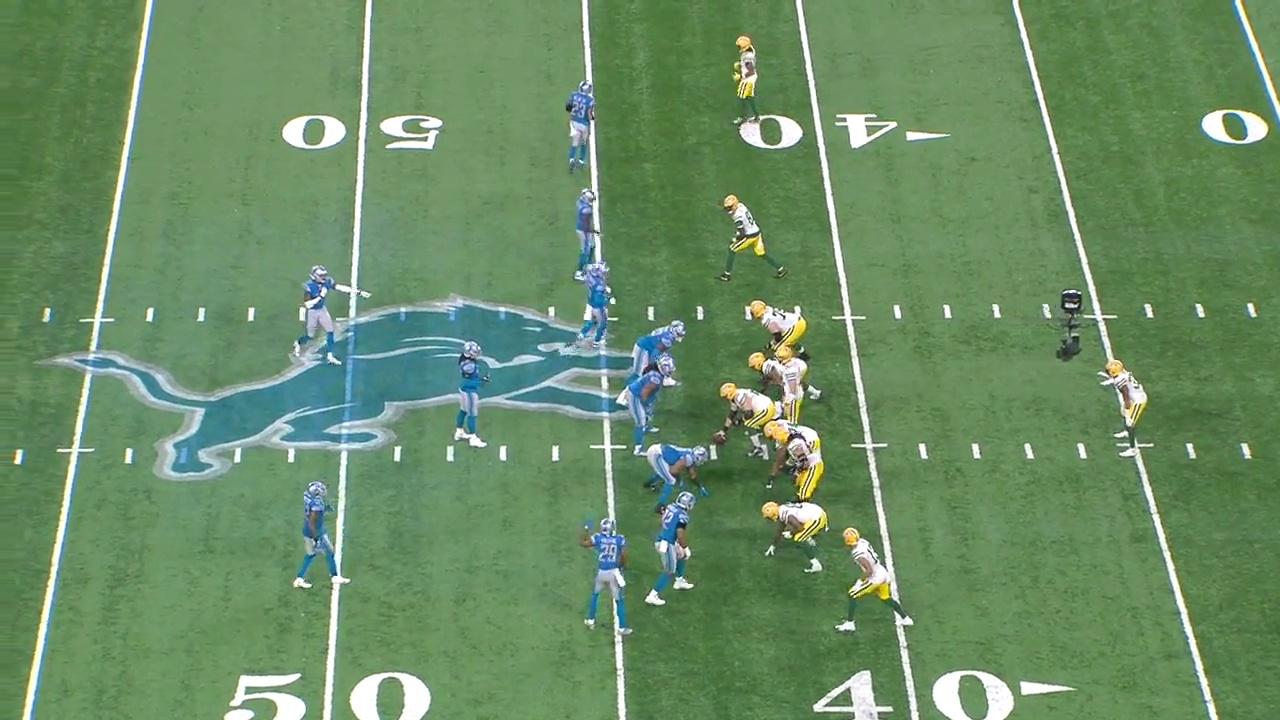defense: (288, 260, 373, 365), (575, 515, 635, 632), (291, 477, 349, 589), (646, 495, 694, 611), (625, 356, 675, 452), (645, 445, 713, 511), (455, 338, 493, 450), (564, 80, 602, 173), (574, 260, 611, 353), (626, 321, 688, 371), (570, 186, 603, 274)
oline: (762, 419, 821, 491), (773, 426, 824, 505), (747, 352, 824, 403), (713, 386, 770, 453), (749, 300, 806, 354)
qb: (774, 346, 809, 424)
skill: (843, 529, 919, 631), (722, 195, 786, 284), (762, 502, 834, 578), (1100, 358, 1152, 460), (729, 31, 763, 126)
